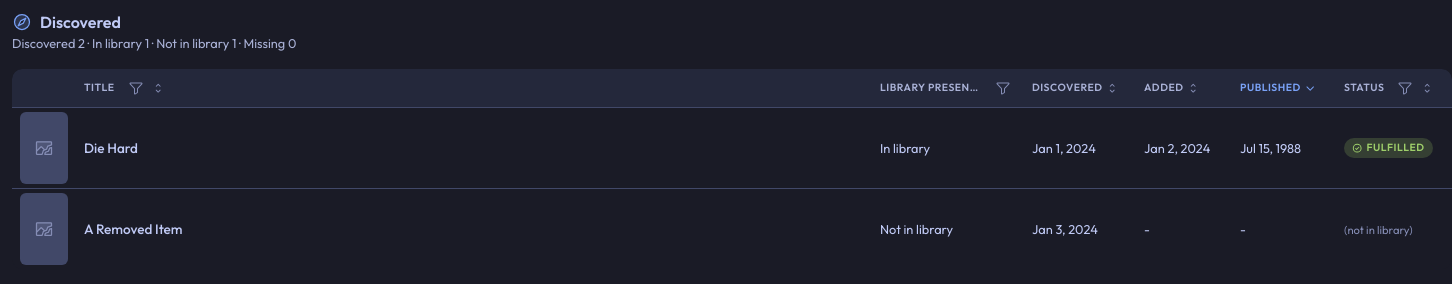
Test: WishlistDiscoveredList › uses the library fulfillment vocabulary in the status filter (Fulfilled, not Found)
Step 1. Click the button named "Filter by Status" → (1405, 88), box [1392,75,1418,101]
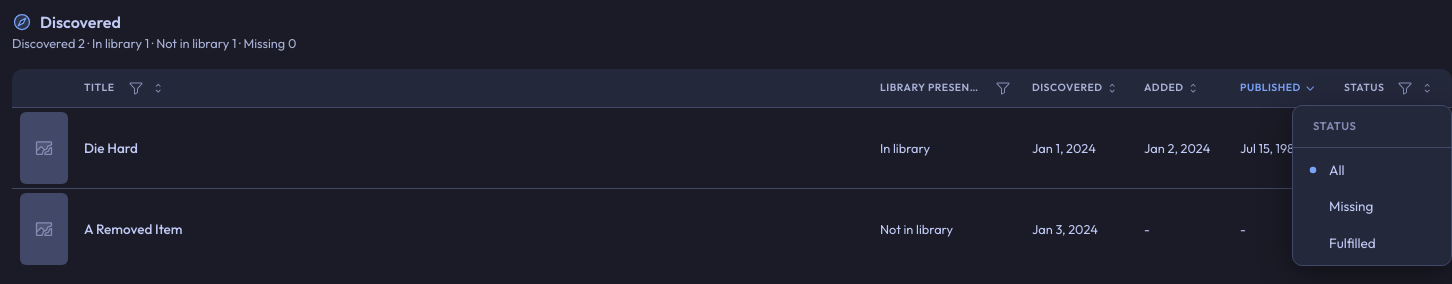
Now the menu item "All" is shown, box [1309,161,1344,179]
Now the menu item "Fulfilled" is shown, box [1329,234,1376,252]
